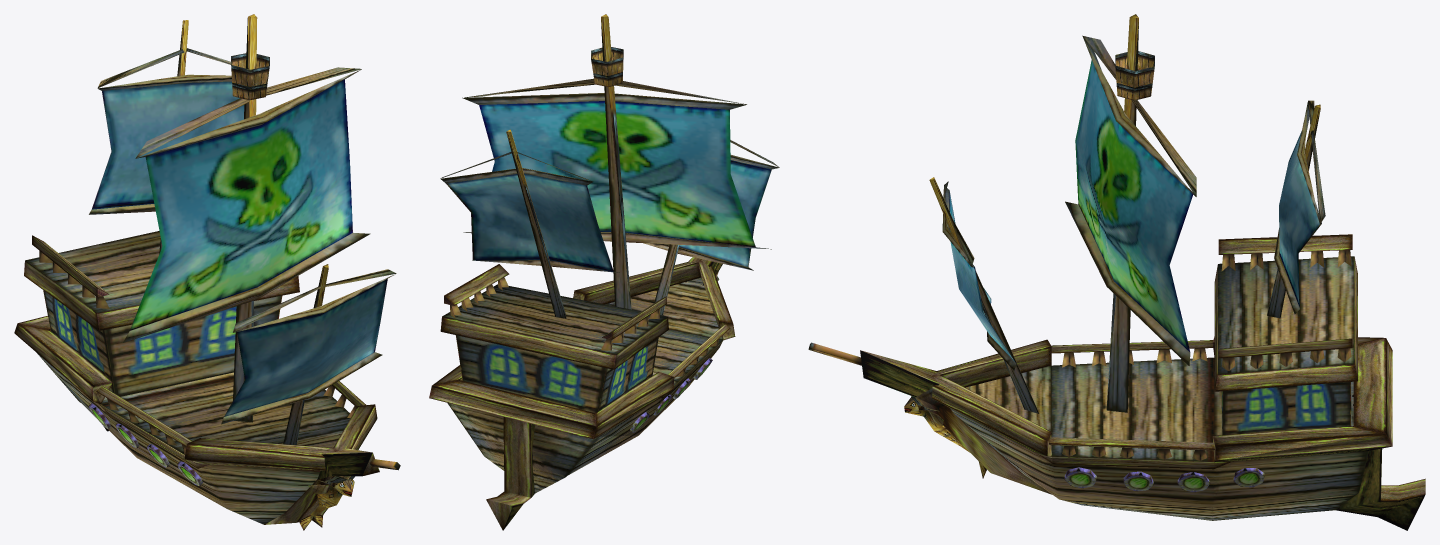
The model's file is dutchman.obj.
3 renders of one model, left to right at view 1: azimuth 30°, elevation 25°; view 2: azimuth 150°, elevation 25°; view 3: azimuth 270°, elevation 25°, orthographic. The views are drawn at different scales.
Parts seen in each view (by area): view 1: Mesh_0007.rip, Mesh_0005.rip, Mesh_0003.rip; view 2: Mesh_0005.rip, Mesh_0007.rip, Mesh_0003.rip; view 3: Mesh_0005.rip, Mesh_0007.rip, Mesh_0003.rip.
Part boxes in pixels (left/top/right/bottom): Mesh_0007.rip: left=89, top=79, right=387, bottom=486; Mesh_0005.rip: left=14, top=18, right=396, bottom=524; Mesh_0003.rip: left=39, top=14, right=400, bottom=530; Mesh_0005.rip: left=429, top=20, right=779, bottom=530; Mesh_0007.rip: left=446, top=101, right=771, bottom=530; Mesh_0003.rip: left=450, top=14, right=719, bottom=412; Mesh_0005.rip: left=861, top=22, right=1425, bottom=520; Mesh_0007.rip: left=860, top=60, right=1424, bottom=530; Mesh_0003.rip: left=808, top=14, right=1351, bottom=478.
Bounding box in the file's own units: 37.3 × 58.81 × 63.15.
3 materials, 3 textured.
